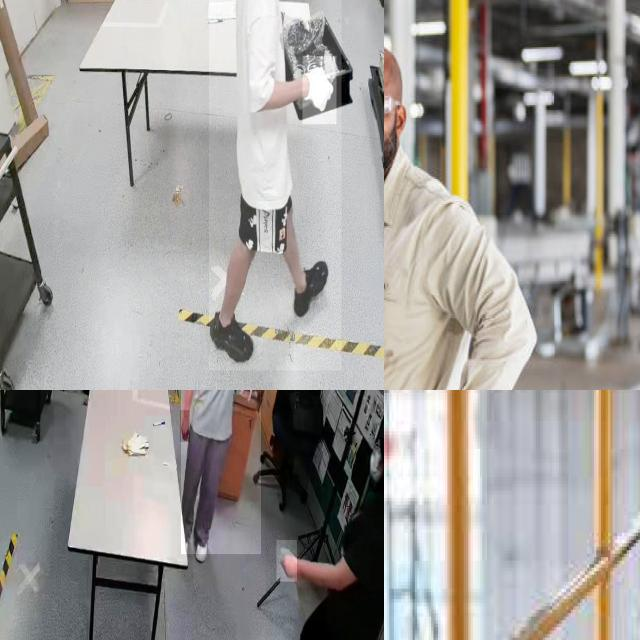No_Ear-Protection: (395, 104, 408, 140)
face_mask: (368, 438, 384, 492)
face_nomask: (384, 108, 398, 175)
hand_glove: (302, 56, 336, 124)
hand_noglove: (276, 540, 298, 582), (180, 410, 190, 443)
head_nohelmet: (384, 49, 403, 100)
person: (209, 0, 342, 371), (265, 403, 384, 640), (180, 390, 261, 554)
shoes: (208, 308, 255, 364), (291, 260, 331, 324), (191, 519, 212, 563)
